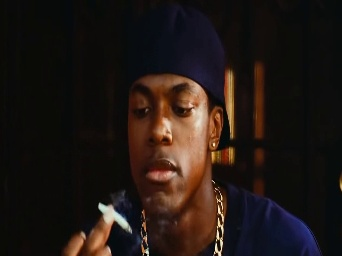smoke: (97, 203, 132, 233)
